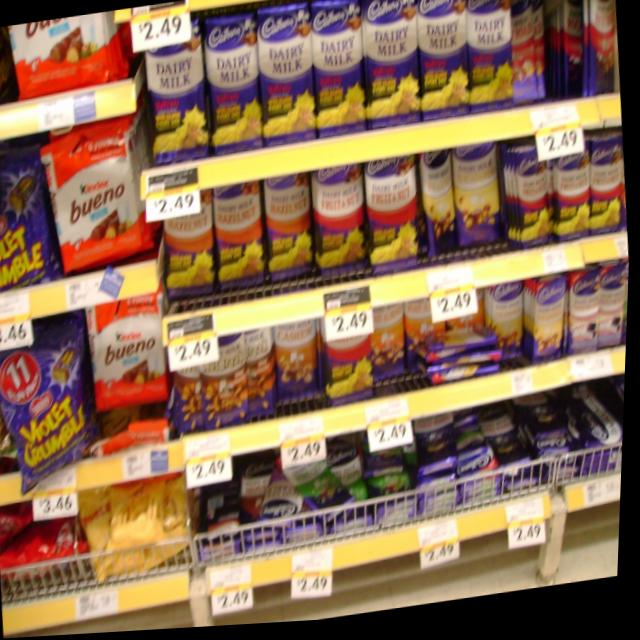q145: (252, 0, 327, 150), (196, 6, 266, 155), (354, 0, 426, 137), (139, 31, 210, 168), (307, 0, 374, 135), (411, 0, 476, 125), (459, 0, 518, 119)
